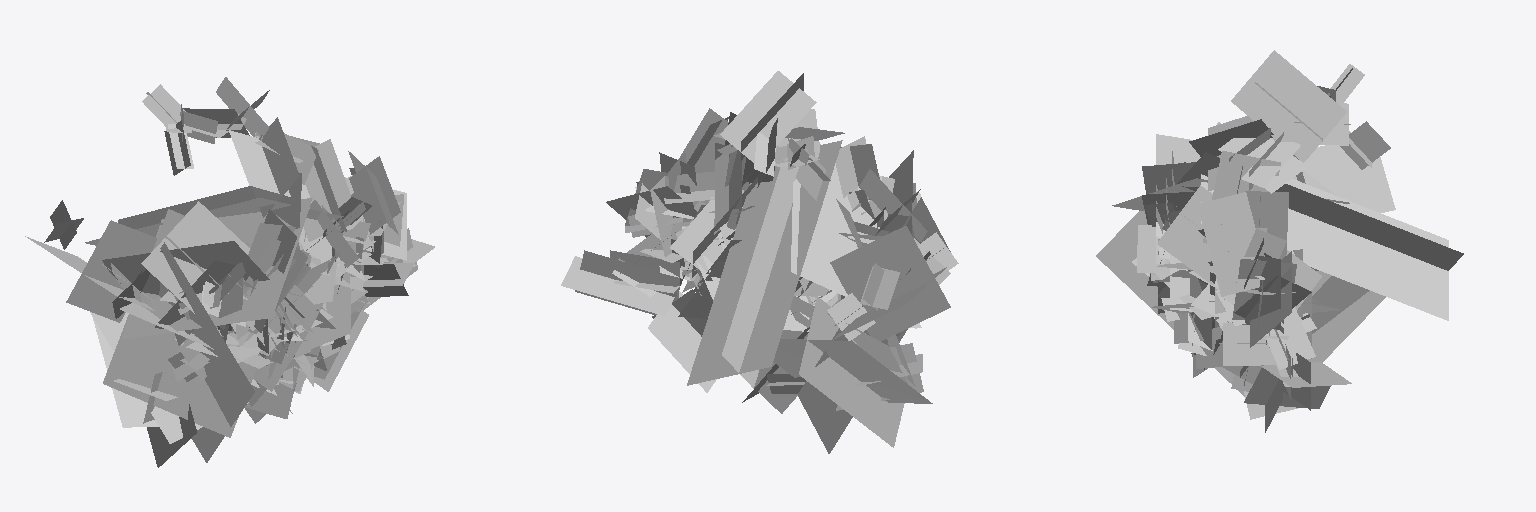
The model's file is billboards_lod3.obj.
3 renders of one model, left to right at view 1: azimuth 30°, elevation 25°; view 2: azimuth 150°, elevation 25°; view 3: azimuth 270°, elevation 25°, orthographic.
Size of the model in its own units: 6.53 by 6.35 by 5.59.